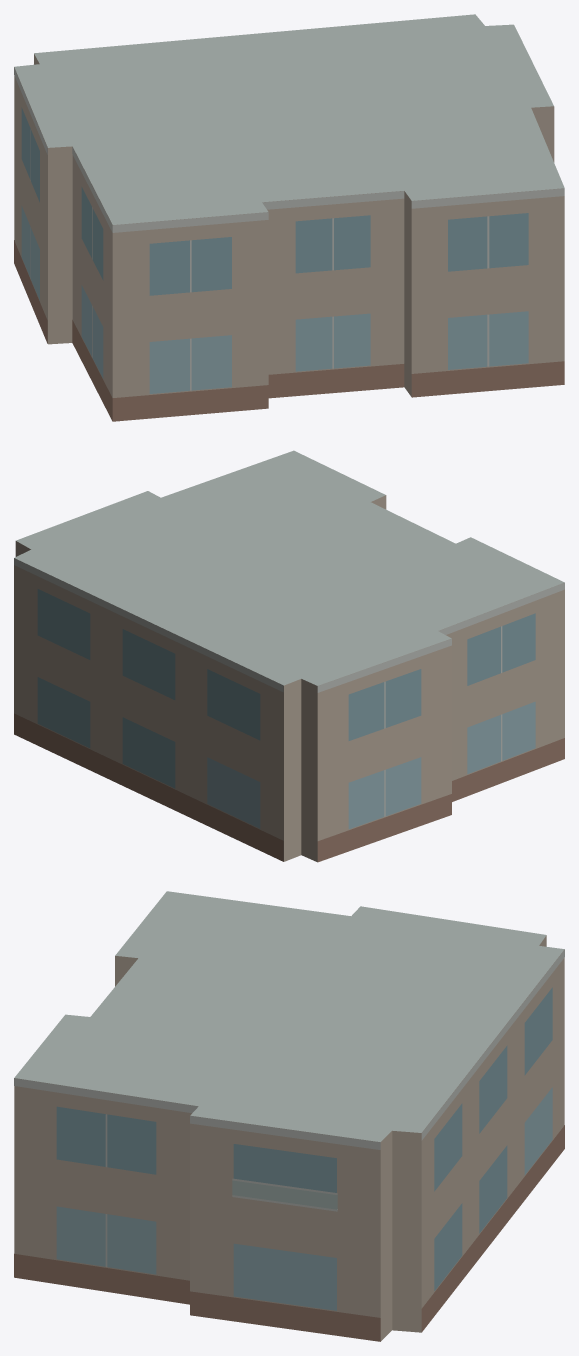
File: survey-upis-32602268.glb
3 views of the same model, one above another, from view 1: azimuth 30°, elevation 25°; view 2: azimuth 150°, elevation 25°; view 3: azimuth 270°, elevation 25° (orthographic). The views are drawn at different scales.
Parts seen in each view (by area): view 1: survey-upis-32602268.tmp; view 2: survey-upis-32602268.tmp; view 3: survey-upis-32602268.tmp.
Boxes of the visible parts, box(x1,y1,x2,y2) form: survey-upis-32602268.tmp: box(14, 14, 564, 421); survey-upis-32602268.tmp: box(14, 450, 564, 862); survey-upis-32602268.tmp: box(14, 891, 564, 1341).
Bounding box in the file's own units: 16.46 × 6.1 × 15.26.
